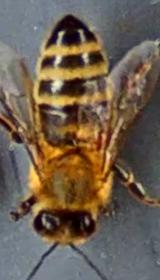varroa_mite: (88, 122, 124, 156)
